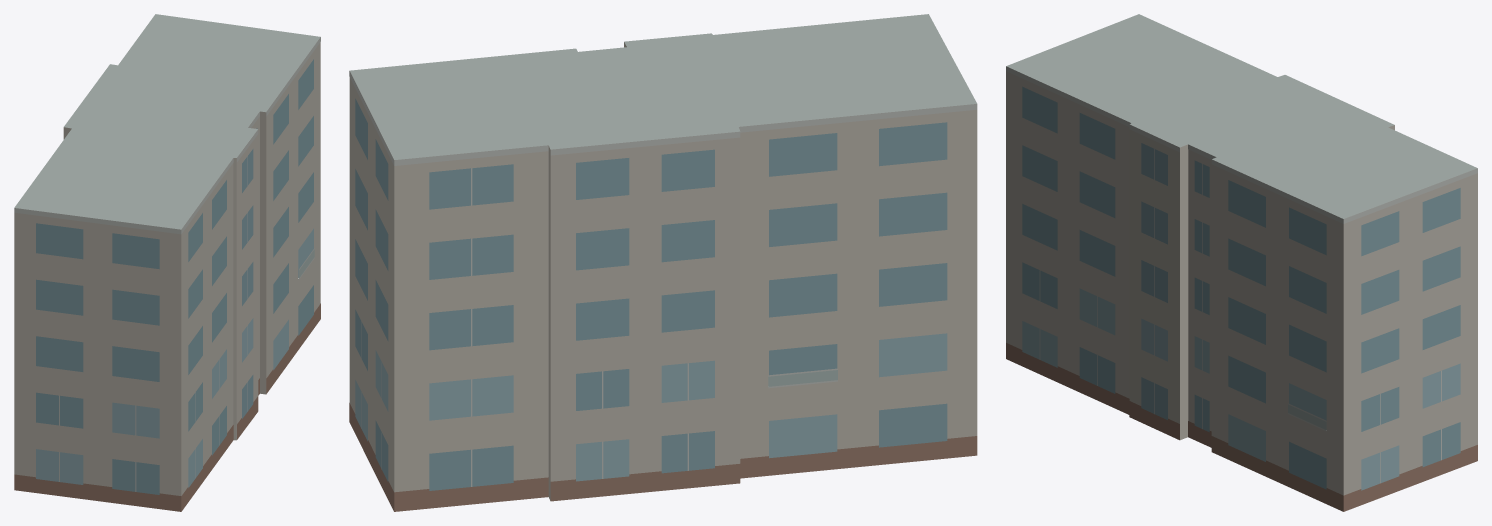
File: survey-upis-32754272.glb
The picture shows the model from 3 angles, left to right: view 1: azimuth 30°, elevation 25°; view 2: azimuth 150°, elevation 25°; view 3: azimuth 270°, elevation 25°; orthographic projection. The views are drawn at different scales.
Parts seen in each view (by area): view 1: survey-upis-32754272.tmp; view 2: survey-upis-32754272.tmp; view 3: survey-upis-32754272.tmp.
Part boxes in pixels (<box>): survey-upis-32754272.tmp: <box>14,14,320,511</box>; survey-upis-32754272.tmp: <box>349,14,977,511</box>; survey-upis-32754272.tmp: <box>1006,14,1477,511</box>.
Bounding box in the file's own units: 21.79 × 14.5 × 21.18.
